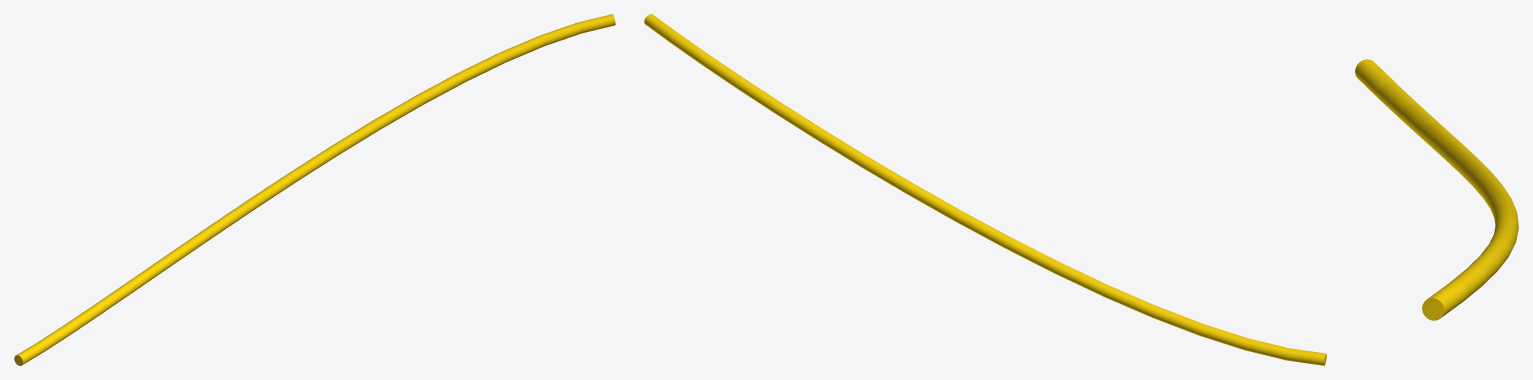
File: Event_421115418_track_137.fbx
3 renders of one model, left to right at view 1: azimuth 30°, elevation 25°; view 2: azimuth 150°, elevation 25°; view 3: azimuth 270°, elevation 25°, orthographic. The views are drawn at different scales.
Parts seen in each view (by area): view 1: Model; view 2: Model; view 3: Model.
Boxes of the visible parts, box(x1,y1,x2,y2) form: Model: box(14, 14, 615, 365); Model: box(644, 14, 1326, 365); Model: box(1355, 59, 1518, 320).
Bounding box in the file's own units: 2.43 × 0.7155 × 0.2797.
